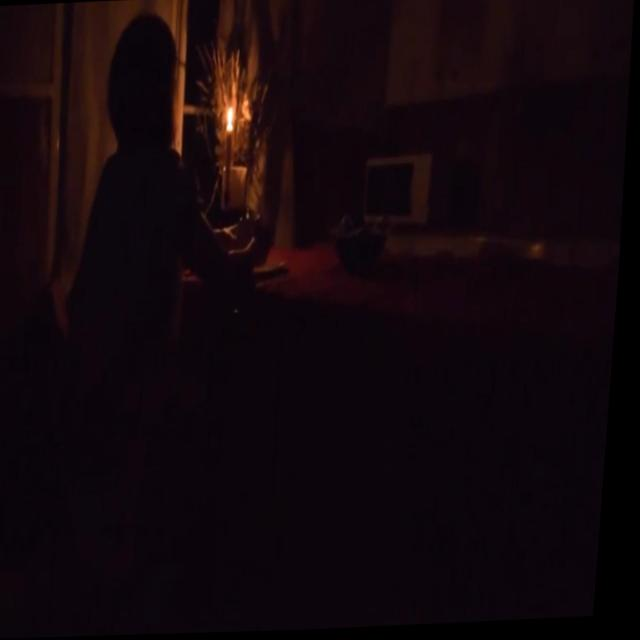fire: (227, 105, 237, 129)
